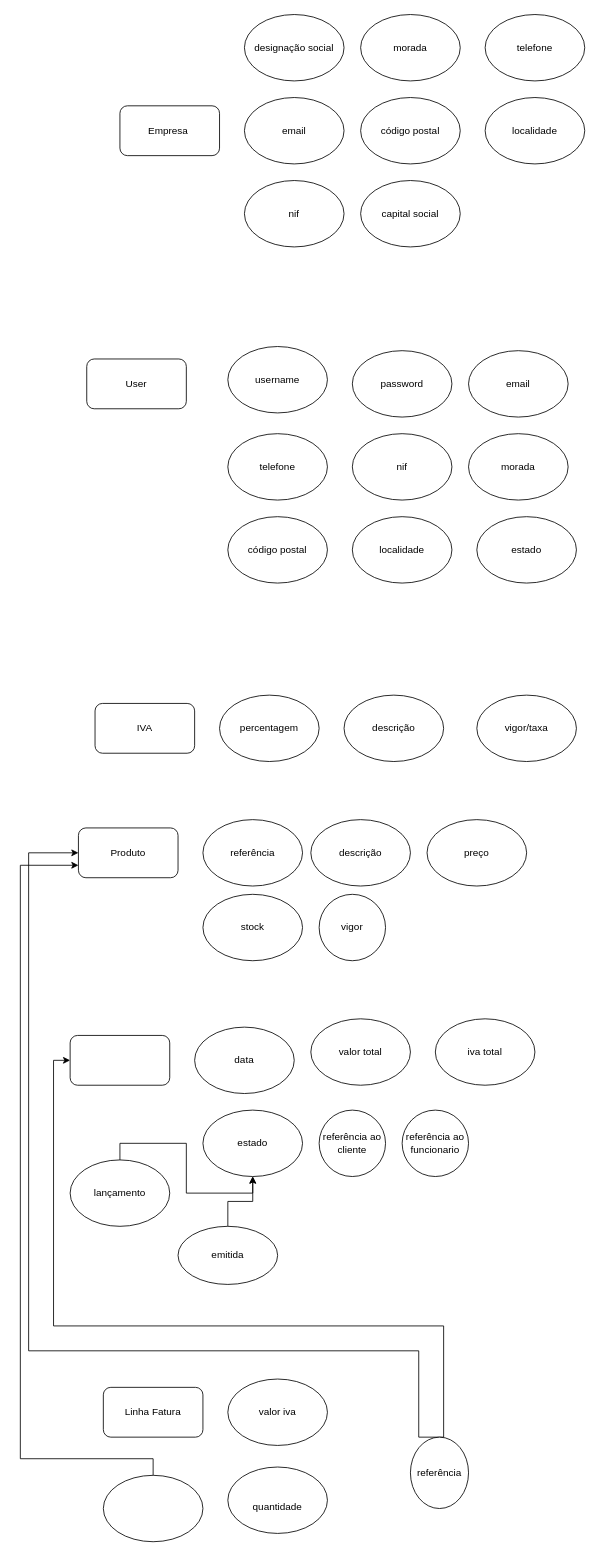
Image size: 599x1556. Some labels were removed from this diagram. The box of each missing label's shape, as (x1, y1, x2, y2) in pixels:
Fatura: (69, 1035, 170, 1085)
valor (unitário): (103, 1474, 203, 1542)
